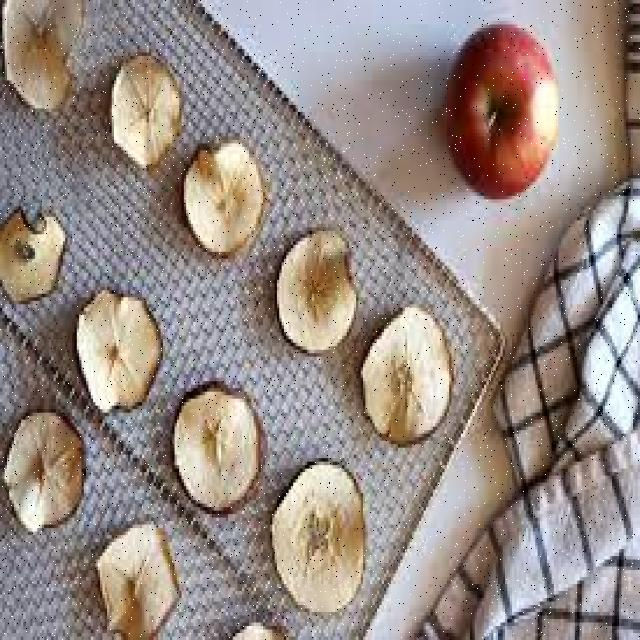Apple: (450, 27, 560, 201), (272, 462, 369, 611), (362, 308, 453, 444), (172, 392, 265, 509), (276, 230, 356, 355), (75, 294, 162, 408), (184, 140, 266, 256), (108, 58, 180, 168)
